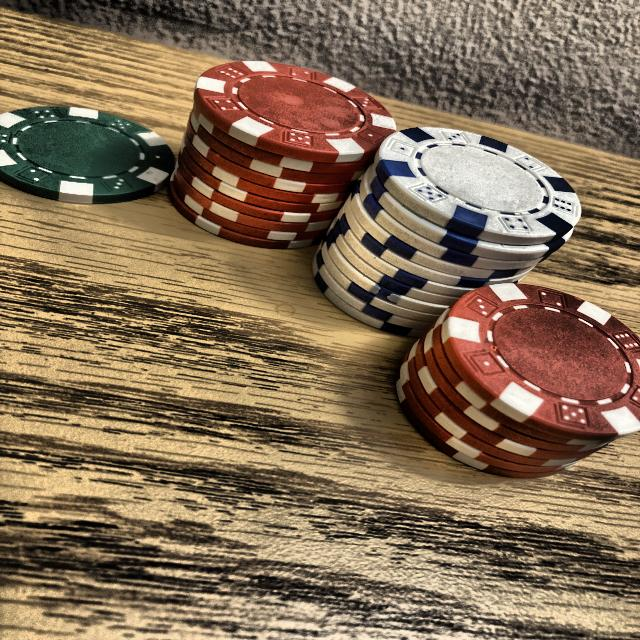Chip: (270, 114, 600, 352), (367, 248, 637, 505), (157, 36, 406, 278), (2, 103, 176, 209)
